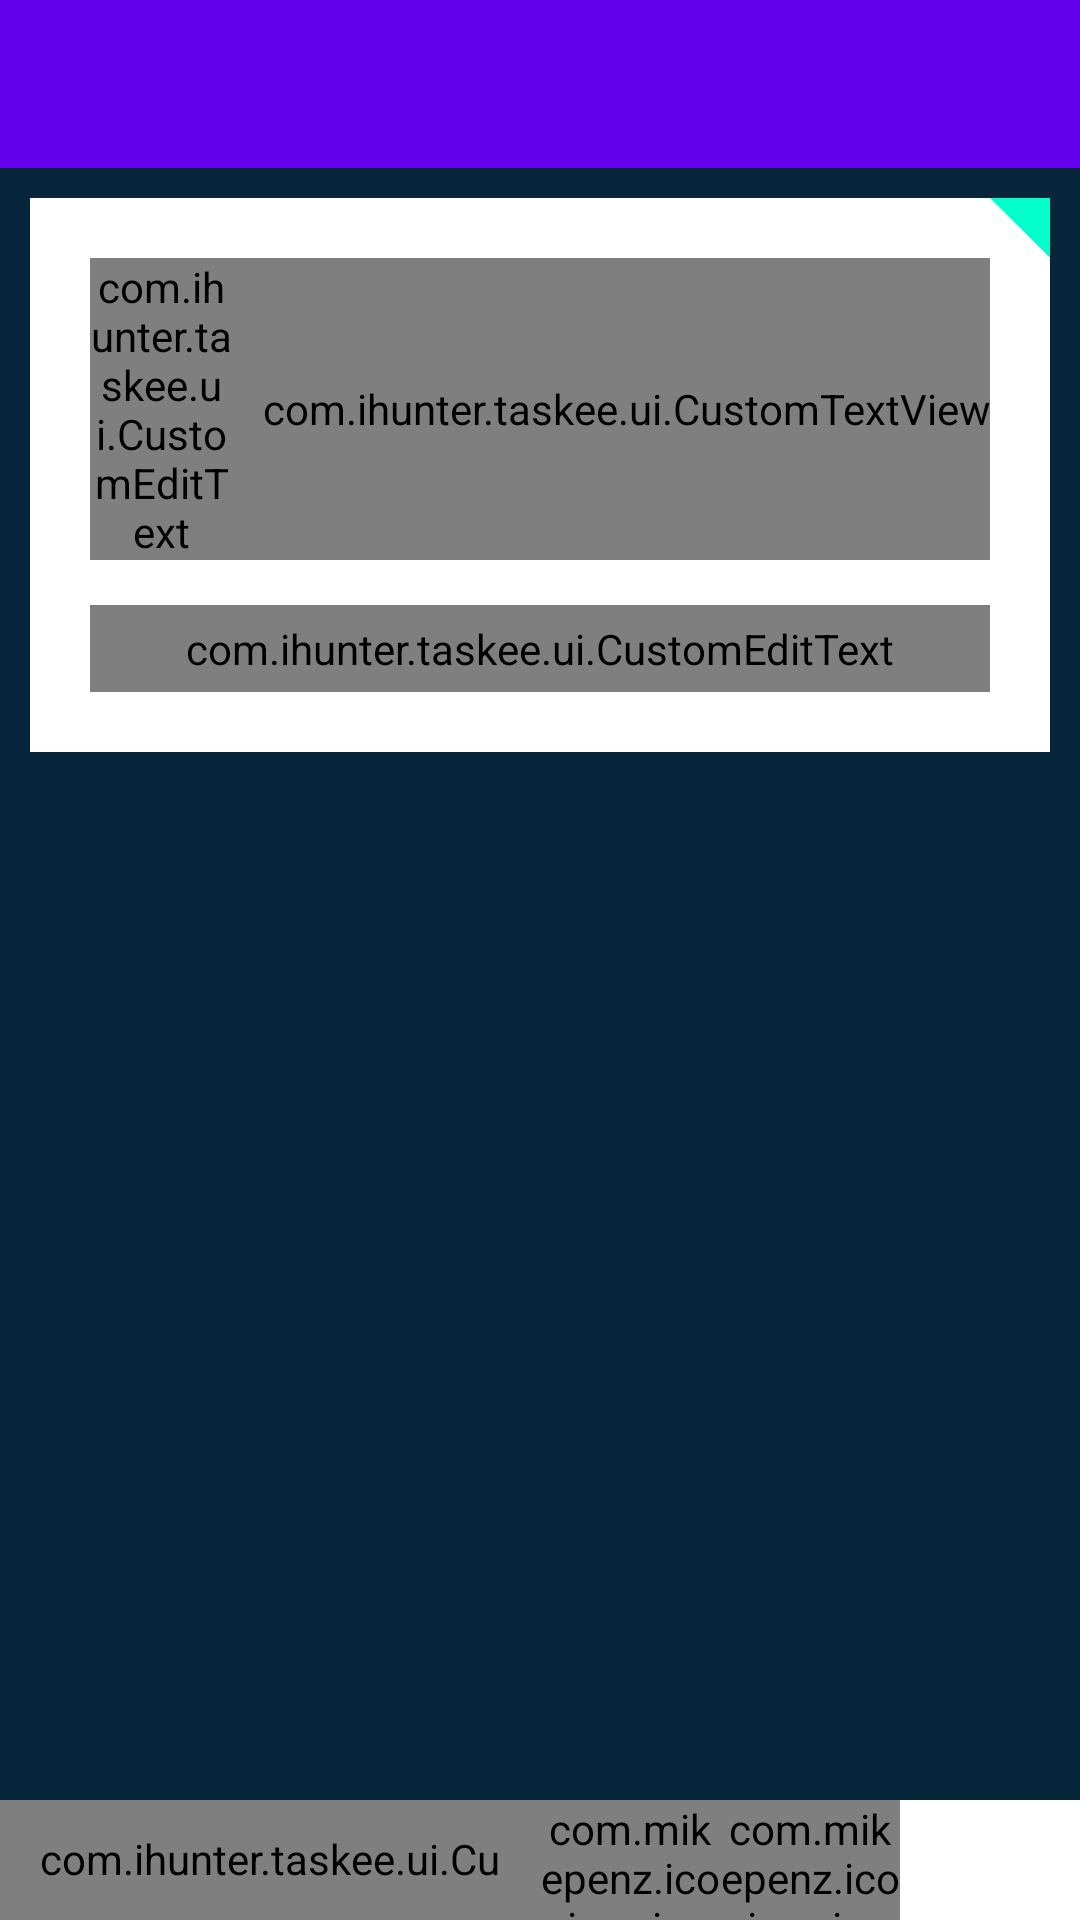

Point at icon controls on the screen. Image size 1080w x 1920h, points as point (x, y).
priority triangle: point (1020, 228)
